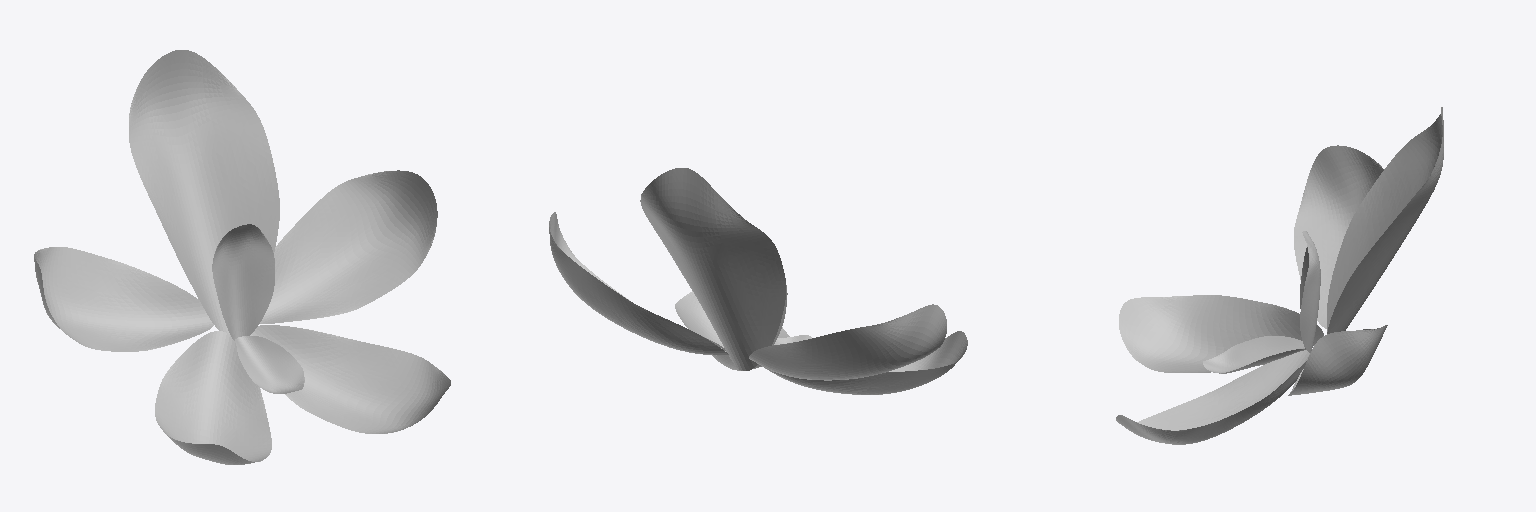
The model's file is flower_2.obj.
The picture shows the model from 3 angles: view 1: azimuth 30°, elevation 25°; view 2: azimuth 150°, elevation 25°; view 3: azimuth 270°, elevation 25°; orthographic projection.
Parts seen in each view (by area): view 1: petaleDos petaleDos1 petaleDos2, petaleCote Cloner Face_1_0 Face_1_01, petaleCote Cloner Face_1_3 Face_1_31, petaleCote Cloner Face_1_1 Face_1_11, petaleCote Cloner Face_1_2 Face_1_21, coeur petaleCoeur1 petaleCoeur2, coeur2 petaleCoeur; view 2: petaleDos petaleDos1 petaleDos2, petaleCote Cloner Face_1_3 Face_1_31, petaleCote Cloner Face_1_0 Face_1_01, petaleCote Cloner Face_1_2 Face_1_21, petaleCote Cloner Face_1_1 Face_1_11; view 3: petaleDos petaleDos1 petaleDos2, petaleCote Cloner Face_1_2 Face_1_21, petaleCote Cloner Face_1_3 Face_1_31, petaleCote Cloner Face_1_1 Face_1_11, petaleCote Cloner Face_1_0 Face_1_01, coeur2 petaleCoeur, coeur petaleCoeur1 petaleCoeur2.
Boxes of the visible parts, <box> form: petaleDos petaleDos1 petaleDos2: <box>129,50,279,333</box>; petaleCote Cloner Face_1_0 Face_1_01: <box>260,170,437,323</box>; petaleCote Cloner Face_1_3 Face_1_31: <box>34,247,213,351</box>; petaleCote Cloner Face_1_1 Face_1_11: <box>250,325,450,433</box>; petaleCote Cloner Face_1_2 Face_1_21: <box>155,331,271,464</box>; coeur petaleCoeur1 petaleCoeur2: <box>212,224,274,340</box>; coeur2 petaleCoeur: <box>236,336,304,393</box>; petaleDos petaleDos1 petaleDos2: <box>640,168,785,370</box>; petaleCote Cloner Face_1_3 Face_1_31: <box>749,304,946,380</box>; petaleCote Cloner Face_1_0 Face_1_01: <box>549,212,728,355</box>; petaleCote Cloner Face_1_2 Face_1_21: <box>762,331,967,394</box>; petaleCote Cloner Face_1_1 Face_1_11: <box>675,291,789,370</box>; petaleDos petaleDos1 petaleDos2: <box>1327,107,1443,333</box>; petaleCote Cloner Face_1_2 Face_1_21: <box>1119,295,1323,372</box>; petaleCote Cloner Face_1_3 Face_1_31: <box>1294,145,1383,328</box>; petaleCote Cloner Face_1_1 Face_1_11: <box>1116,350,1309,444</box>; petaleCote Cloner Face_1_0 Face_1_01: <box>1288,325,1387,395</box>; coeur2 petaleCoeur: <box>1203,336,1305,373</box>; coeur petaleCoeur1 petaleCoeur2: <box>1300,231,1320,352</box>.
Bounding box in the file's own units: 24.8 × 17.83 × 18.06.